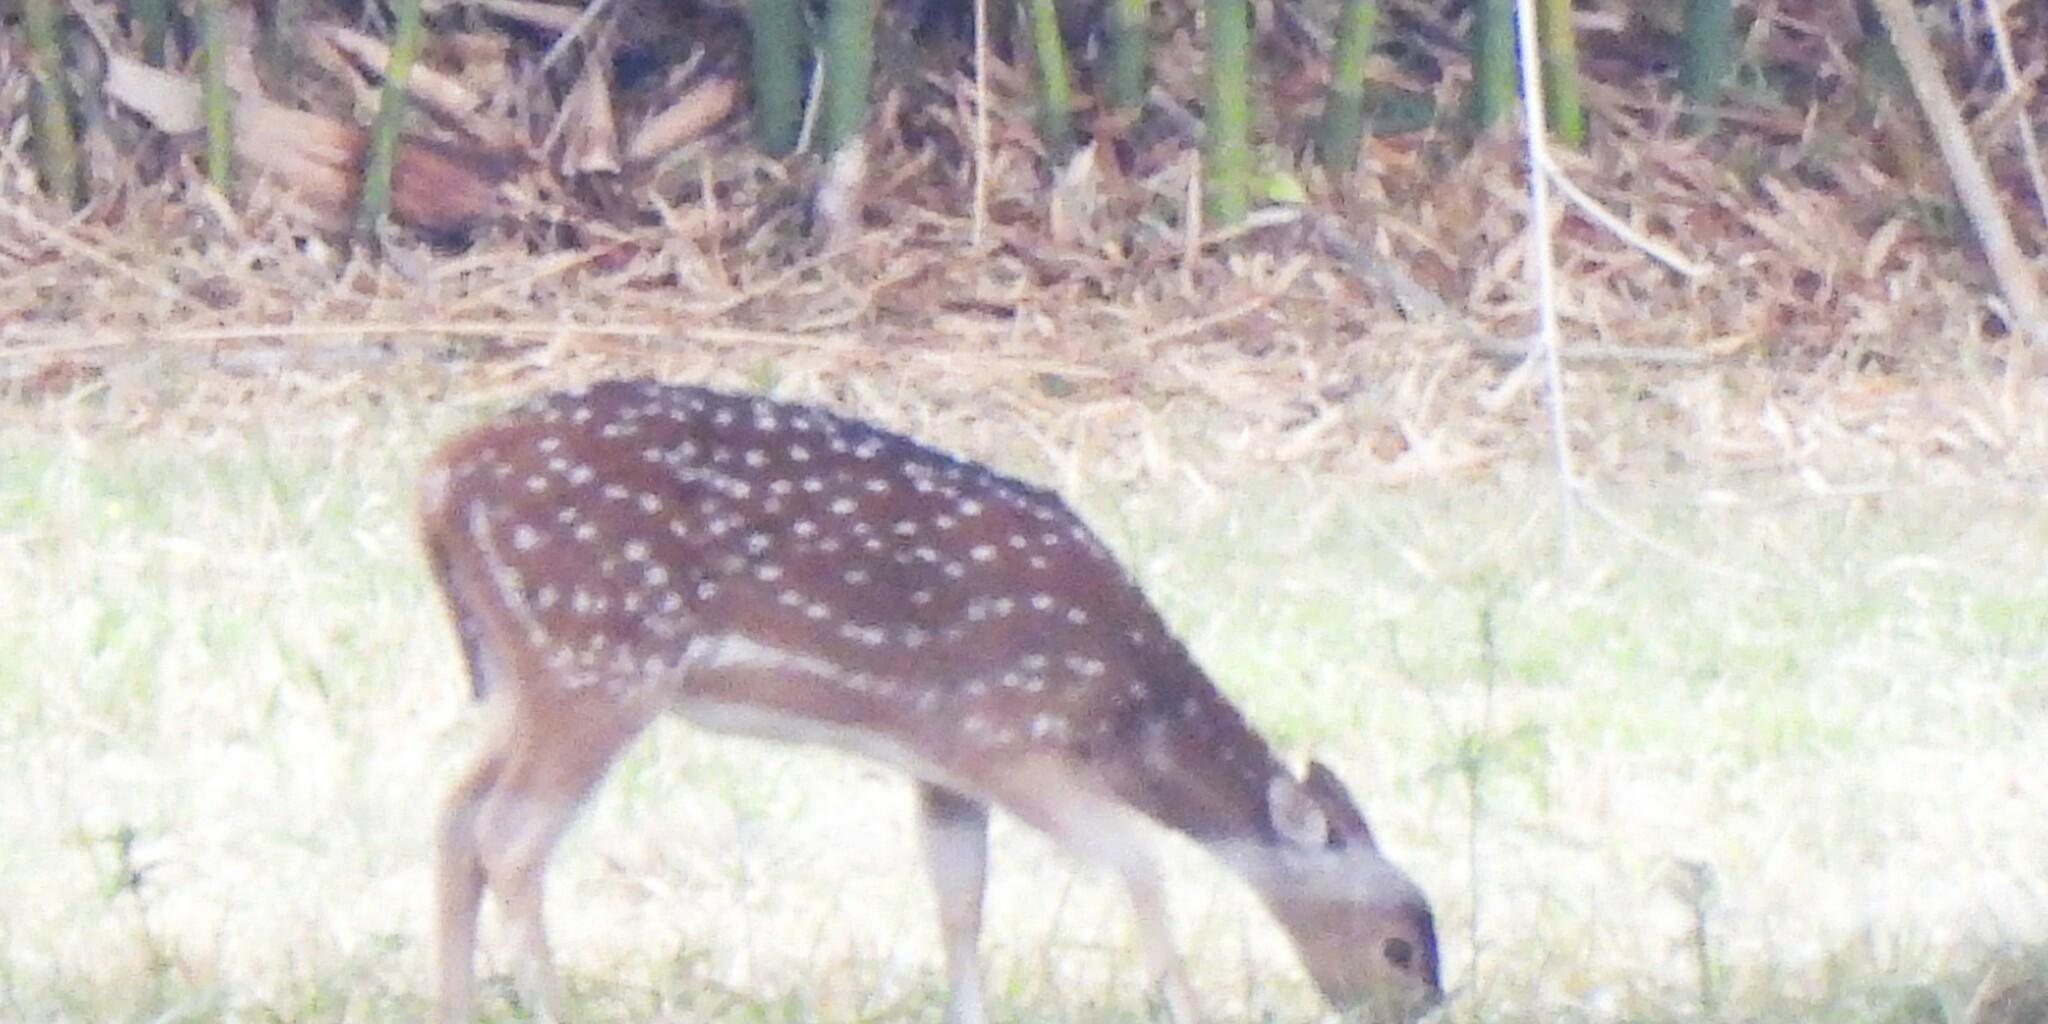Deer: (421, 381, 1442, 1023)
